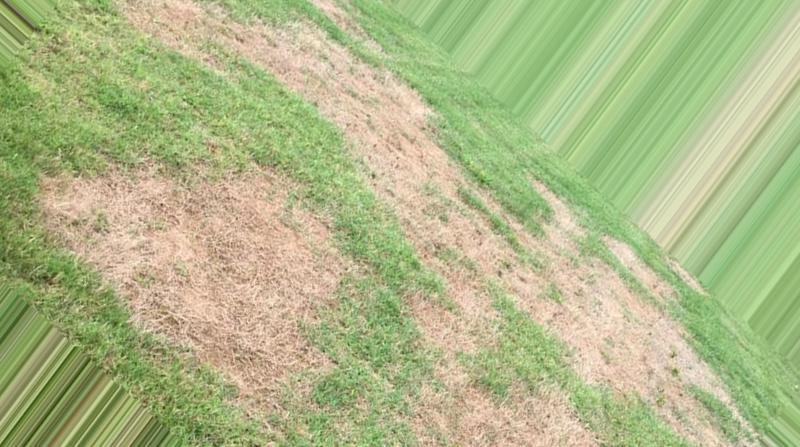patch: (61, 175, 316, 299), (414, 224, 575, 338), (310, 55, 428, 187), (371, 370, 556, 435), (169, 306, 318, 376), (584, 295, 678, 404), (170, 8, 305, 71), (386, 181, 485, 236), (310, 231, 361, 288)
